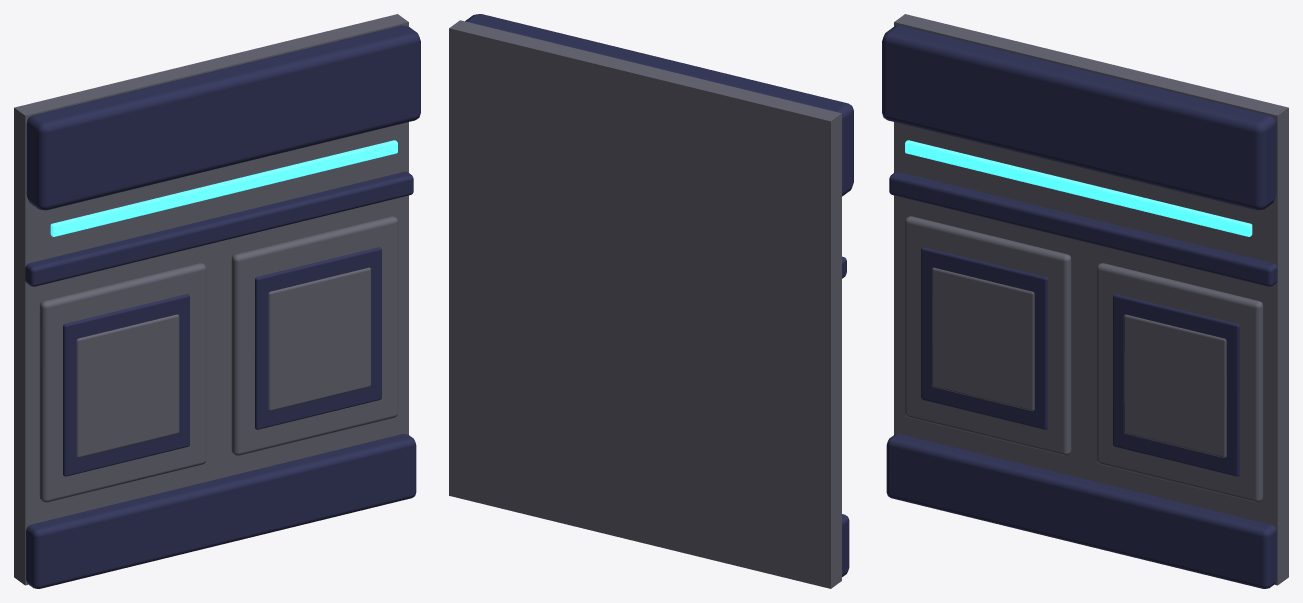
File: int.wallpanel.cockpit.w1.s0.i1.h1.17.glb
3 views of the same model, side by side, from view 1: azimuth 30°, elevation 25°; view 2: azimuth 150°, elevation 25°; view 3: azimuth 330°, elevation 25° (orthographic).
Parts seen in each view (by area): view 1: int.wallpanel.cockpit.w1.s0.i1.h1.17; view 2: int.wallpanel.cockpit.w1.s0.i1.h1.17; view 3: int.wallpanel.cockpit.w1.s0.i1.h1.17.
Part boxes in pixels (box(x1,y1,x2,y2)): int.wallpanel.cockpit.w1.s0.i1.h1.17: box(14, 14, 420, 588); int.wallpanel.cockpit.w1.s0.i1.h1.17: box(449, 14, 853, 588); int.wallpanel.cockpit.w1.s0.i1.h1.17: box(882, 14, 1288, 588).
Size of the model in its own units: 1 by 1.17 by 0.12.
